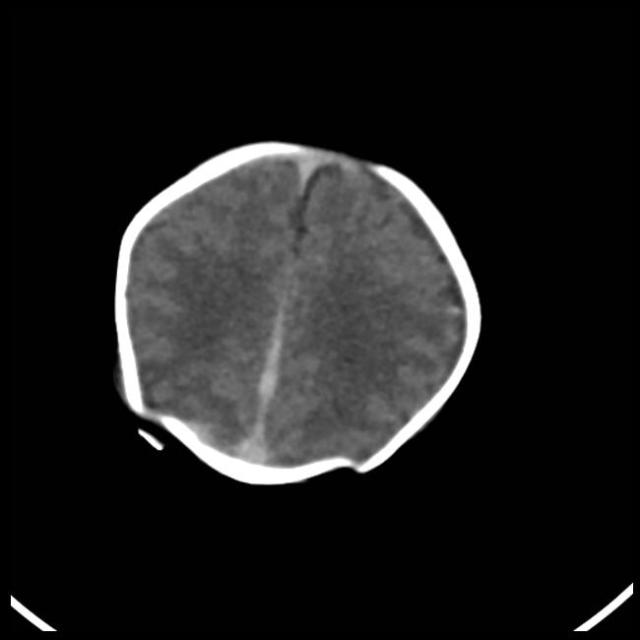lesion: (106, 133, 488, 491)
